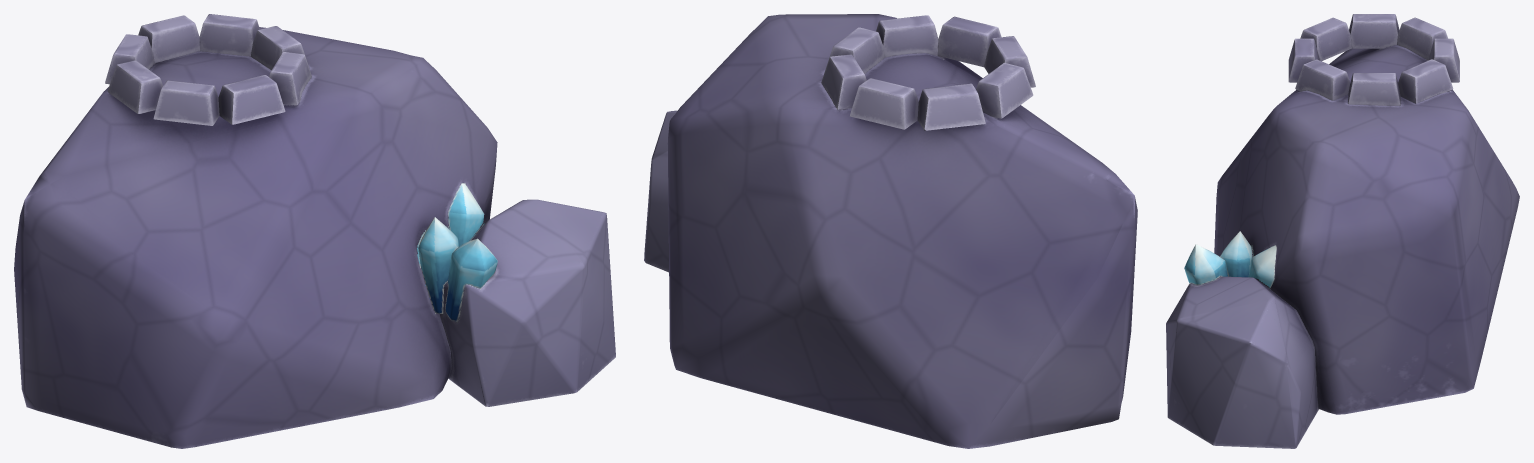
The model's file is Cosmos_Rocher.fbx.
3 renders of one model, left to right at view 1: azimuth 30°, elevation 25°; view 2: azimuth 150°, elevation 25°; view 3: azimuth 270°, elevation 25°, orthographic. The views are drawn at different scales.
Parts seen in each view (by area): view 1: Cosmos_Rocher; view 2: Cosmos_Rocher; view 3: Cosmos_Rocher.
Boxes of the visible parts, x1,y1,x2,y2 form: Cosmos_Rocher: [14, 14, 615, 448]; Cosmos_Rocher: [644, 14, 1137, 448]; Cosmos_Rocher: [1166, 14, 1519, 448].
Bounding box in the file's own units: 957 × 550 × 659.
1 material, 1 textured.
